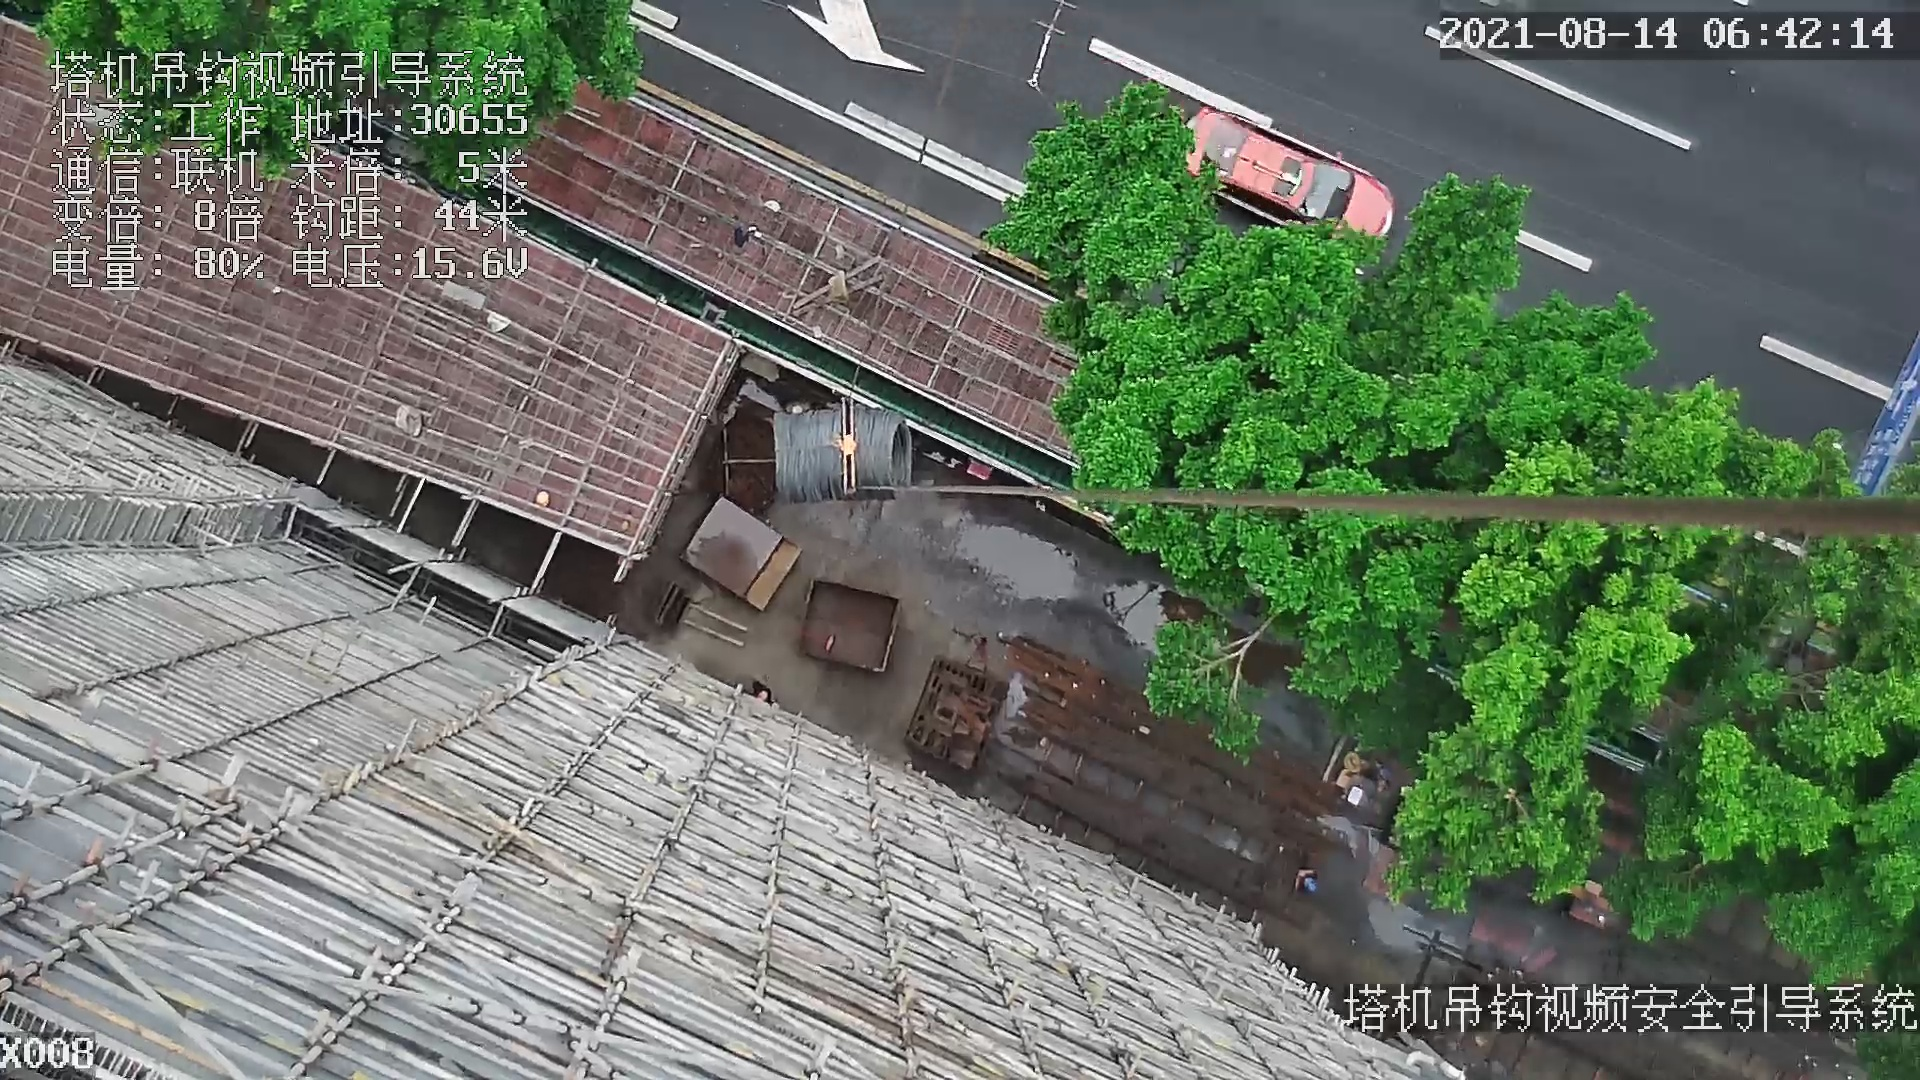hook: (826, 394, 863, 495)
person: (1295, 863, 1323, 900)
